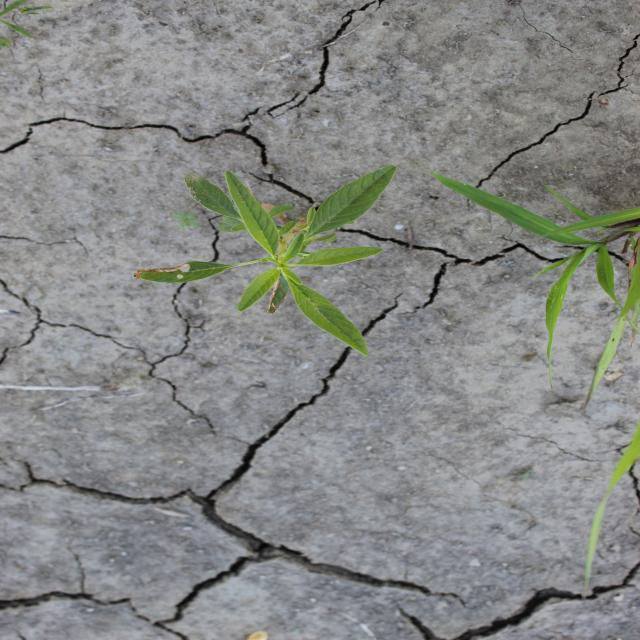Waterhemp: (131, 162, 399, 359)
